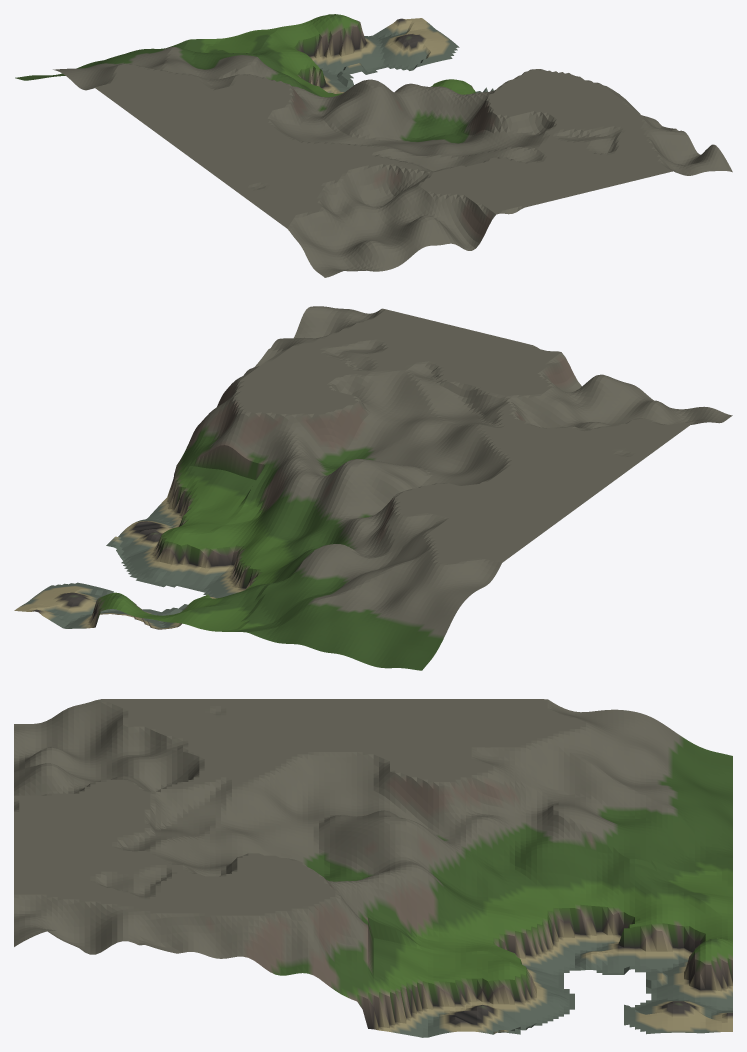
File: coast_tile_x0z3.glb
3 views of the same model, one above another, from view 1: azimuth 30°, elevation 25°; view 2: azimuth 150°, elevation 25°; view 3: azimuth 270°, elevation 25° (orthographic). The views are drawn at different scales.
Visible parts, largest first — view 1: geometry_0; view 2: geometry_0; view 3: geometry_0.
Part boxes in pixels (left/top/right/bottom): geometry_0: left=15, top=14, right=732, bottom=277; geometry_0: left=14, top=306, right=732, bottom=670; geometry_0: left=14, top=699, right=732, bottom=1037.
Size of the model in its own units: 600 by 134 by 792.
